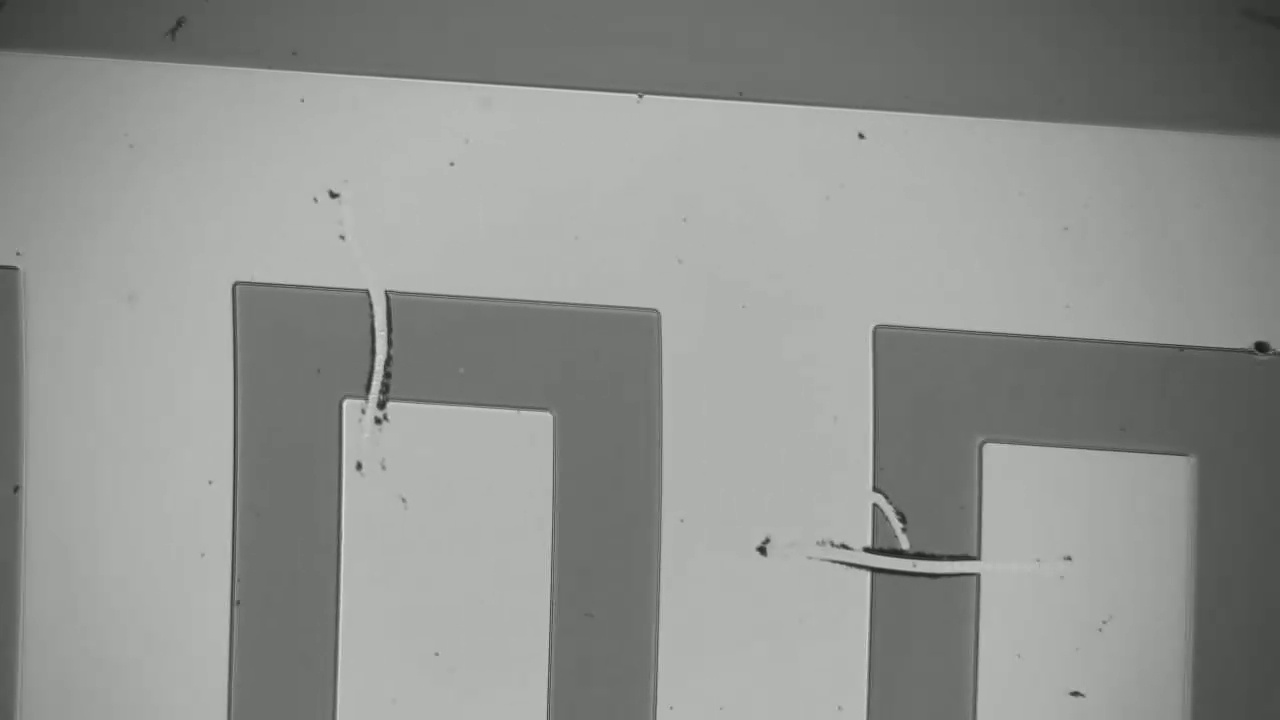Short_circuit: (822, 537, 1028, 584), (346, 264, 393, 429)
